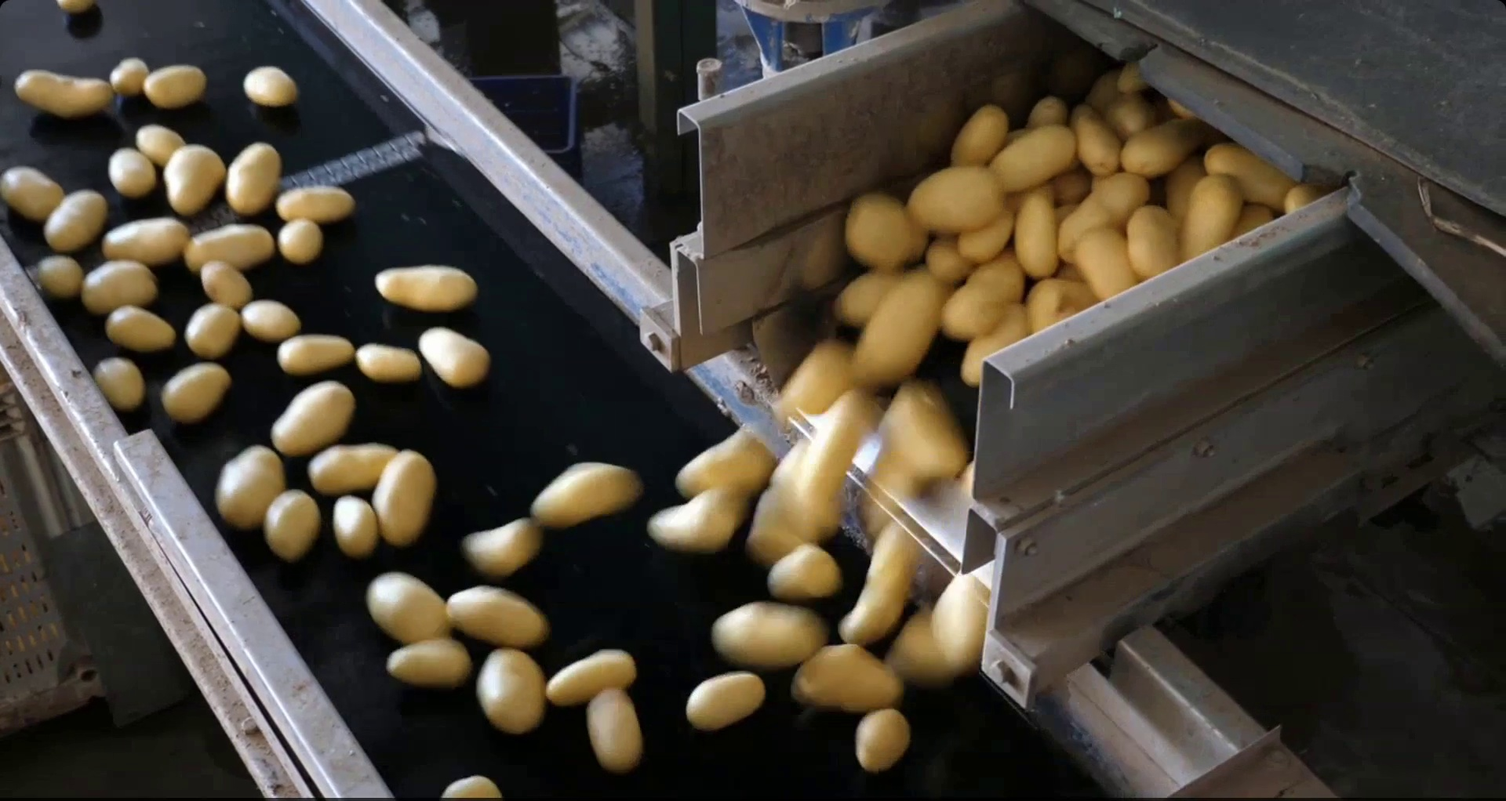potato: (849, 264, 953, 395), (836, 520, 925, 644), (1052, 169, 1156, 270), (792, 386, 874, 509), (1198, 136, 1326, 214), (707, 600, 835, 674), (786, 639, 912, 714), (640, 478, 752, 560), (668, 422, 782, 502), (526, 458, 649, 531), (884, 384, 968, 484), (440, 582, 558, 653), (903, 159, 1009, 236), (265, 377, 361, 462), (209, 440, 293, 535), (956, 299, 1035, 397), (368, 446, 439, 552), (361, 571, 460, 647), (471, 642, 549, 738), (928, 569, 995, 680), (984, 120, 1080, 194), (1116, 111, 1217, 181), (770, 336, 864, 411), (1178, 169, 1248, 267), (838, 185, 918, 270), (453, 512, 551, 581), (369, 258, 483, 317), (544, 643, 642, 710), (581, 682, 646, 780), (10, 64, 118, 121), (682, 669, 770, 737), (856, 449, 923, 538), (416, 321, 497, 394), (1067, 222, 1140, 303), (1, 152, 72, 231), (305, 439, 405, 495), (96, 212, 194, 268), (382, 633, 478, 690), (155, 359, 234, 428), (75, 256, 164, 317), (180, 220, 278, 275), (847, 699, 916, 777), (934, 277, 1011, 346), (756, 542, 846, 601), (261, 486, 324, 570), (37, 186, 112, 256), (161, 142, 229, 219), (223, 136, 285, 220), (944, 100, 1014, 174), (1123, 197, 1184, 281), (1071, 99, 1129, 183), (898, 608, 953, 694), (829, 268, 905, 328), (98, 303, 182, 357), (755, 492, 811, 573), (1016, 179, 1060, 282), (269, 179, 361, 227), (273, 329, 363, 377), (955, 208, 1021, 270), (329, 492, 384, 564), (351, 339, 429, 386), (139, 61, 211, 111), (180, 299, 242, 357), (1023, 277, 1087, 332), (90, 353, 147, 414), (105, 140, 158, 205), (198, 256, 256, 313), (922, 231, 975, 292), (238, 60, 301, 111), (1157, 153, 1212, 210), (28, 251, 87, 304), (240, 299, 304, 345), (272, 214, 326, 268), (1104, 93, 1162, 139), (104, 53, 158, 100), (1045, 161, 1099, 207), (1232, 197, 1281, 247), (432, 770, 511, 801), (1077, 65, 1122, 111), (1281, 177, 1330, 219), (1024, 89, 1071, 131), (765, 446, 803, 495), (902, 203, 930, 267), (1110, 55, 1151, 96), (38, 1, 105, 18), (1160, 96, 1200, 118)
